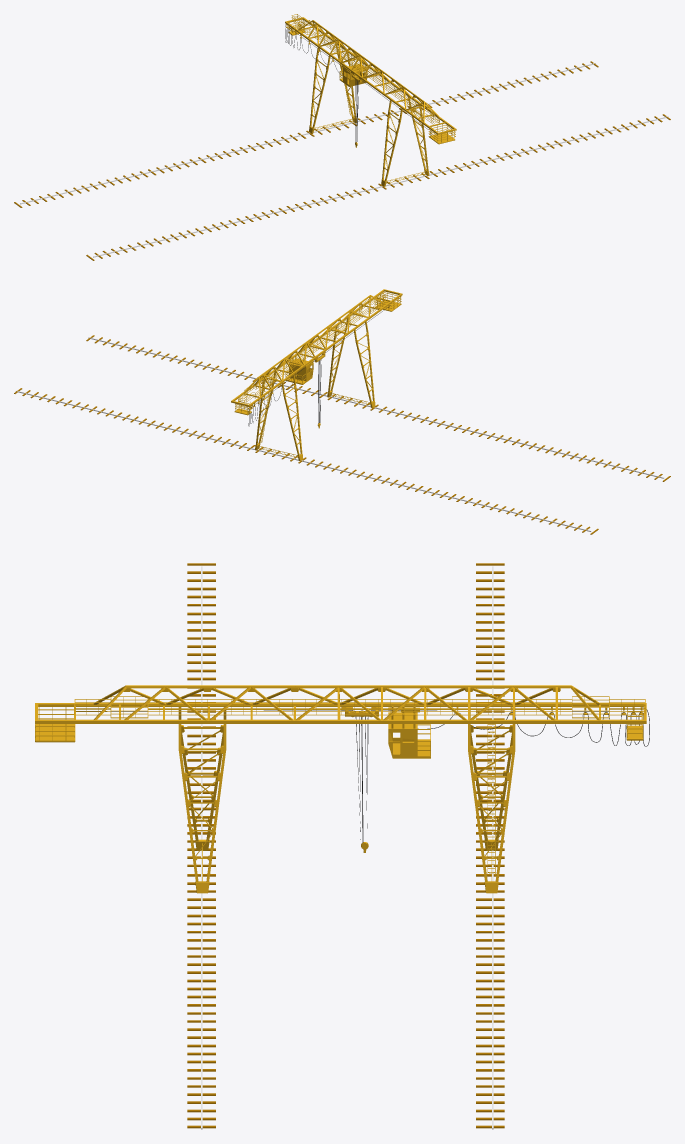
The model's file is crane2.FBX.
3 views of the same model, one above another, from view 1: azimuth 30°, elevation 25°; view 2: azimuth 150°, elevation 25°; view 3: azimuth 270°, elevation 25° (orthographic). The views are drawn at different scales.
Parts seen in each view (by area): view 1: kran1_001, Object002, Object001, Object003; view 2: kran1_001, Object002, Object001, Object003; view 3: kran1_001, Object002, Object001, Object003.
Boxes of the visible parts, x1=… form: kran1_001: x1=285, y1=14, x2=456, y2=186; Object002: x1=14, y1=61, x2=670, y2=260; Object001: x1=20, y1=63, x2=668, y2=257; Object003: x1=285, y1=24, x2=428, y2=142; kran1_001: x1=231, y1=289, x2=402, y2=460; Object002: x1=14, y1=335, x2=670, y2=534; Object001: x1=15, y1=337, x2=664, y2=531; Object003: x1=248, y1=305, x2=390, y2=426; kran1_001: x1=35, y1=685, x2=646, y2=893; Object002: x1=187, y1=563, x2=504, y2=1128; Object001: x1=201, y1=566, x2=493, y2=1129; Object003: x1=76, y1=707, x2=649, y2=842.
Size of the model in its own units: 22977 by 3550 by 10568.
